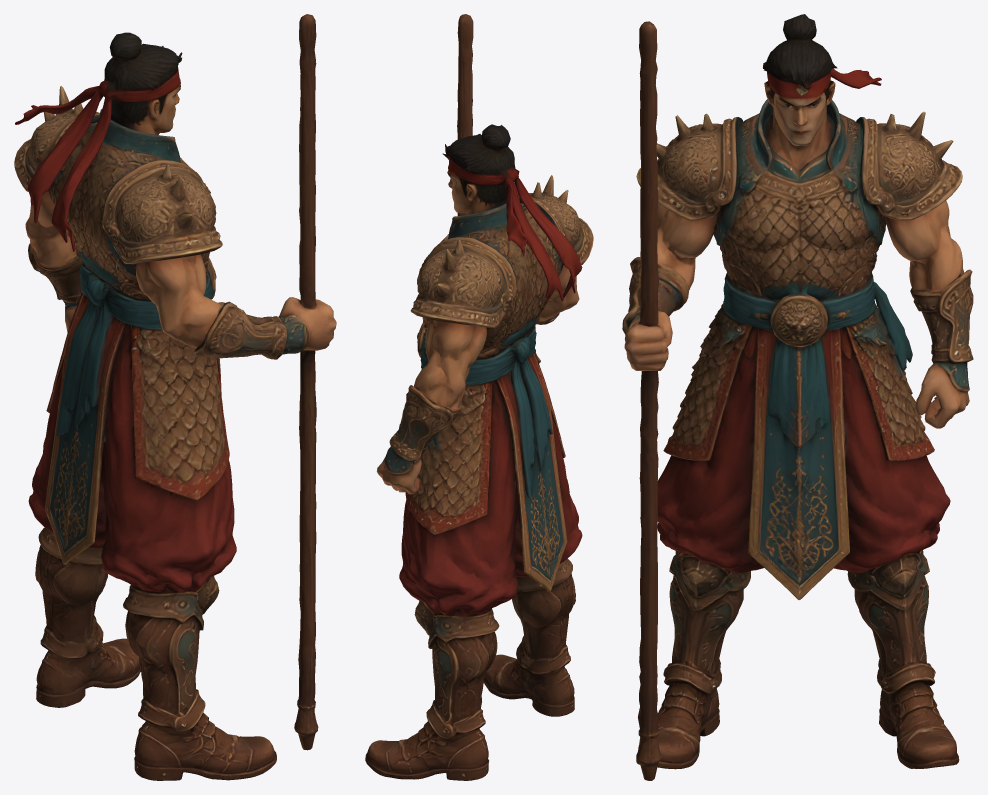
The model's file is vanguard2_T2-tripo.glb.
The picture shows the model from 3 angles, left to right: view 1: azimuth 30°, elevation 25°; view 2: azimuth 150°, elevation 25°; view 3: azimuth 270°, elevation 25°; orthographic projection. The views are drawn at different scales.
Visible parts, largest first — view 1: tripo_node_aa929114-04dd-4f17-8659-9d87ba711898; view 2: tripo_node_aa929114-04dd-4f17-8659-9d87ba711898; view 3: tripo_node_aa929114-04dd-4f17-8659-9d87ba711898.
Part boxes in pixels (box(x1,y1,x2,y2)): tripo_node_aa929114-04dd-4f17-8659-9d87ba711898: box(14, 14, 336, 780); tripo_node_aa929114-04dd-4f17-8659-9d87ba711898: box(365, 14, 593, 780); tripo_node_aa929114-04dd-4f17-8659-9d87ba711898: box(622, 14, 973, 780).
Bounding box in the file's own units: 0.2998 × 1 × 0.4138.
1 material, 1 textured.
